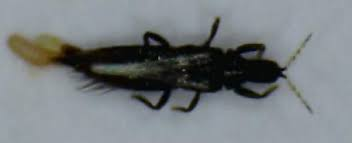Phlaeothripidae: (5, 14, 318, 116)
